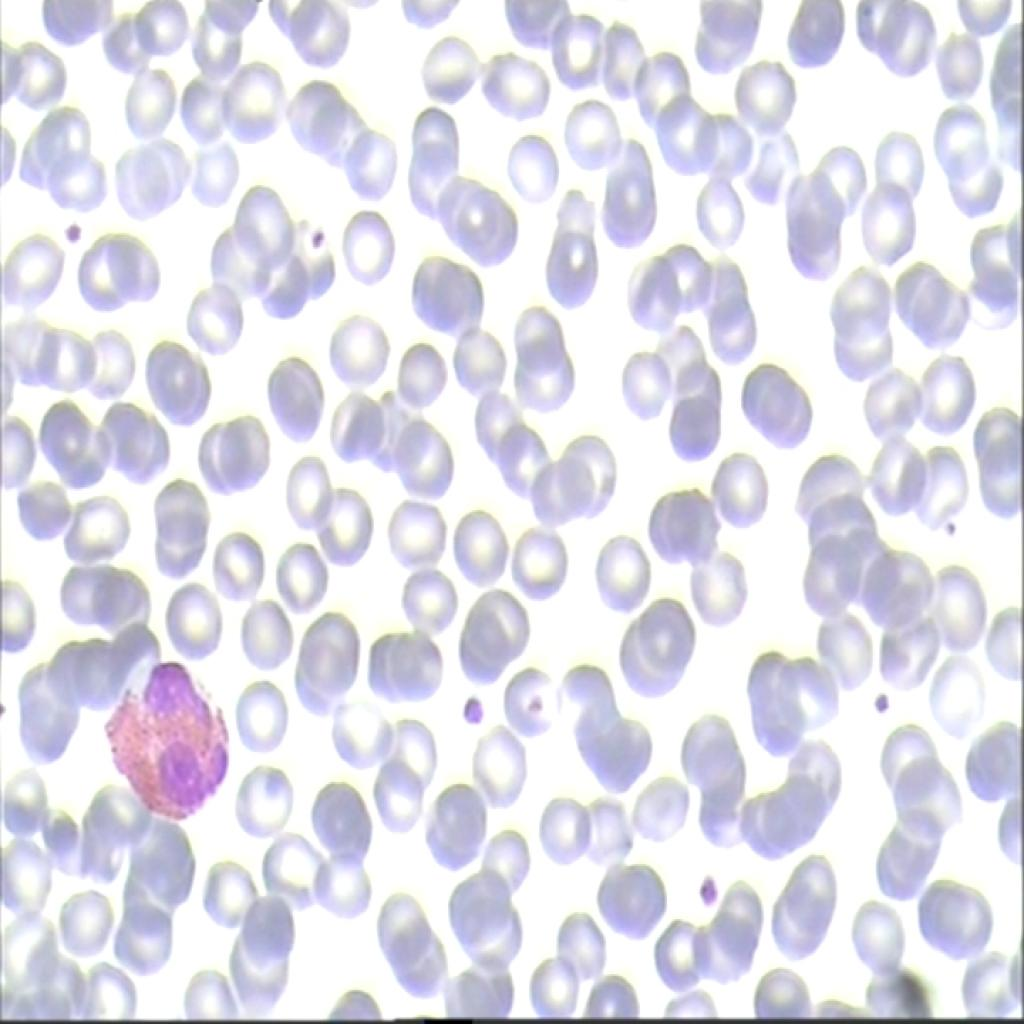Eosinofil: (98, 658, 235, 828)
Platelet: (52, 199, 102, 263), (455, 681, 501, 729), (302, 217, 342, 263), (940, 508, 981, 548), (862, 676, 893, 726), (696, 862, 721, 919)
